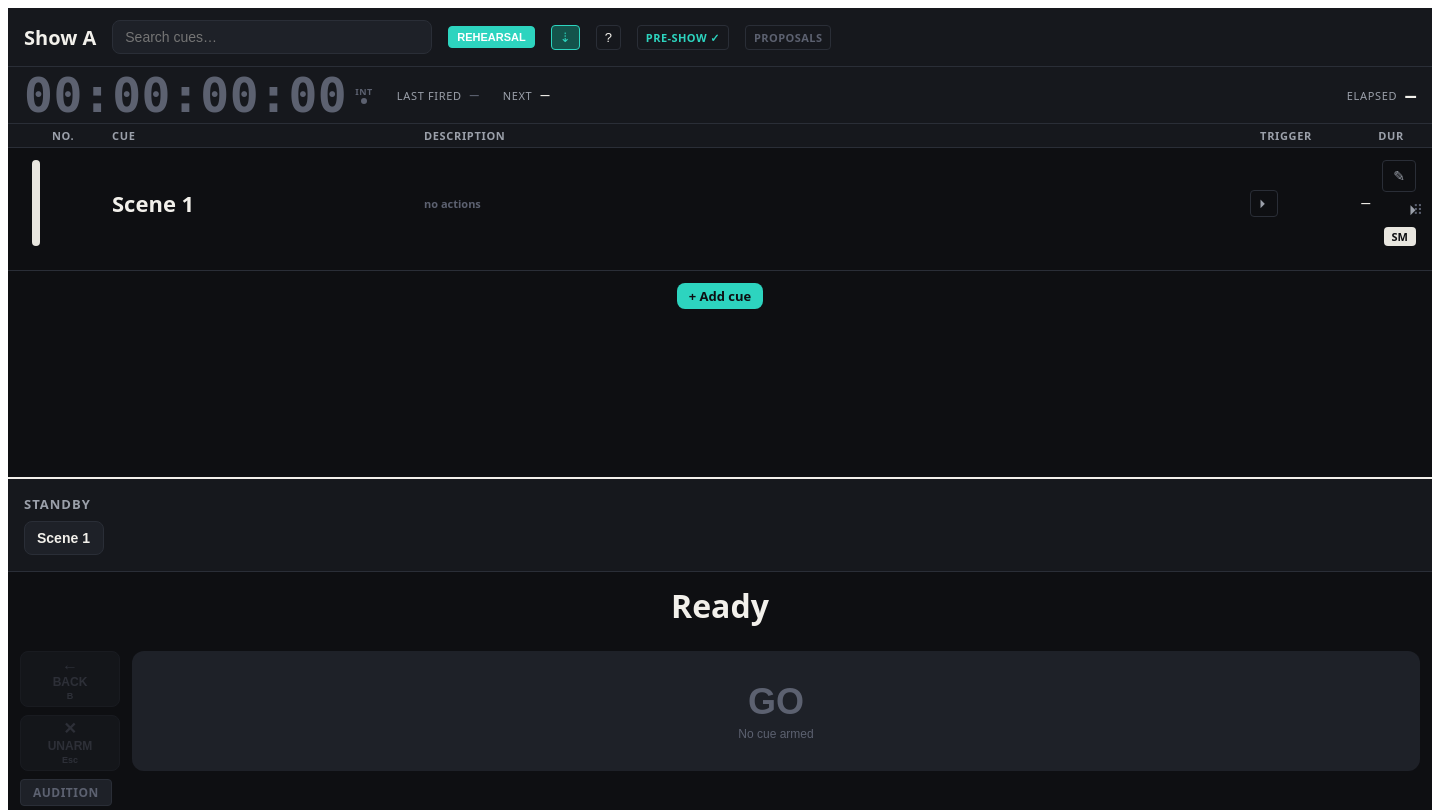
Test: SMMasterView › inline editing shortcuts (N/L/D/O) › Escape closes inline edit without committing
Click the row at point(720, 210), box [8,148,1432,271]
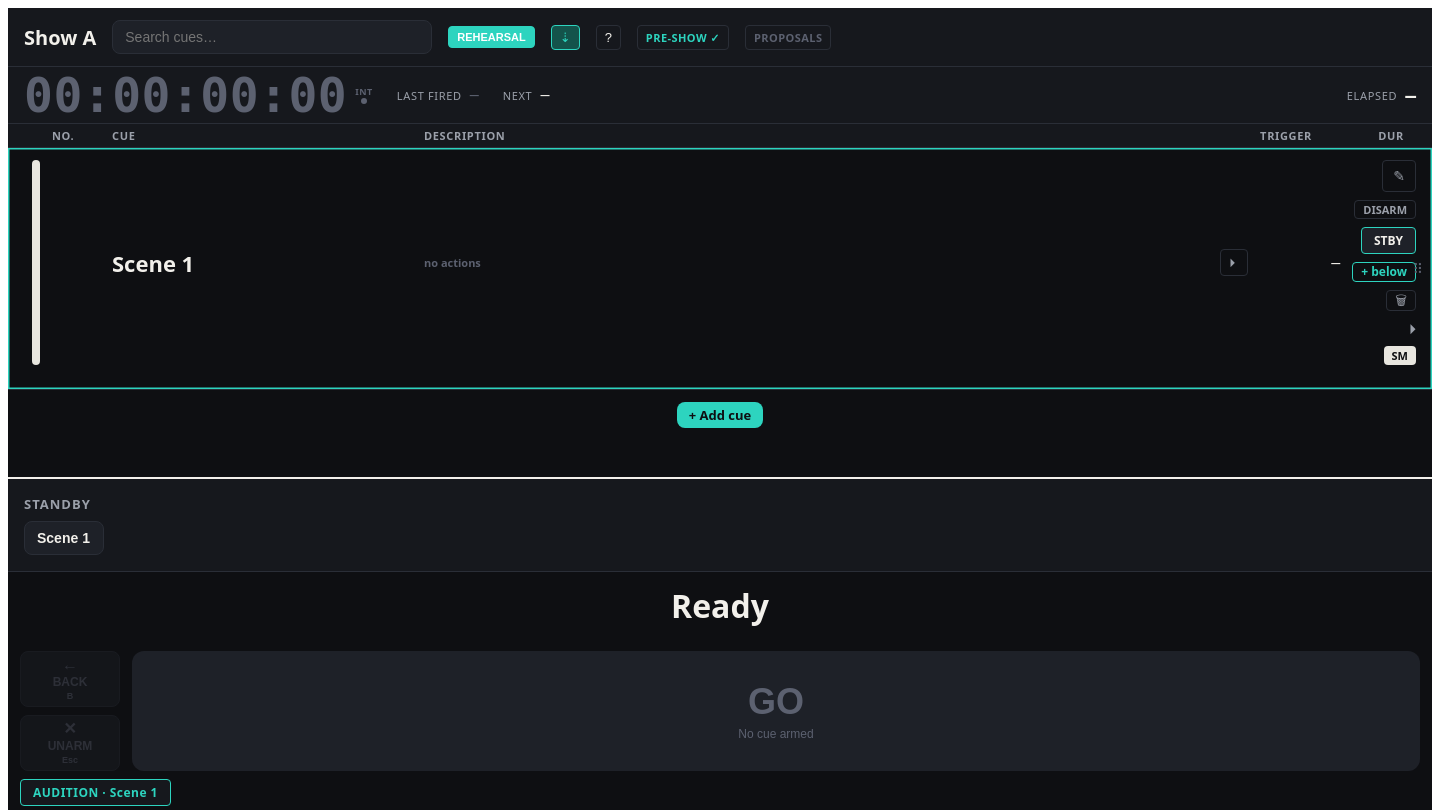
Press KeyN
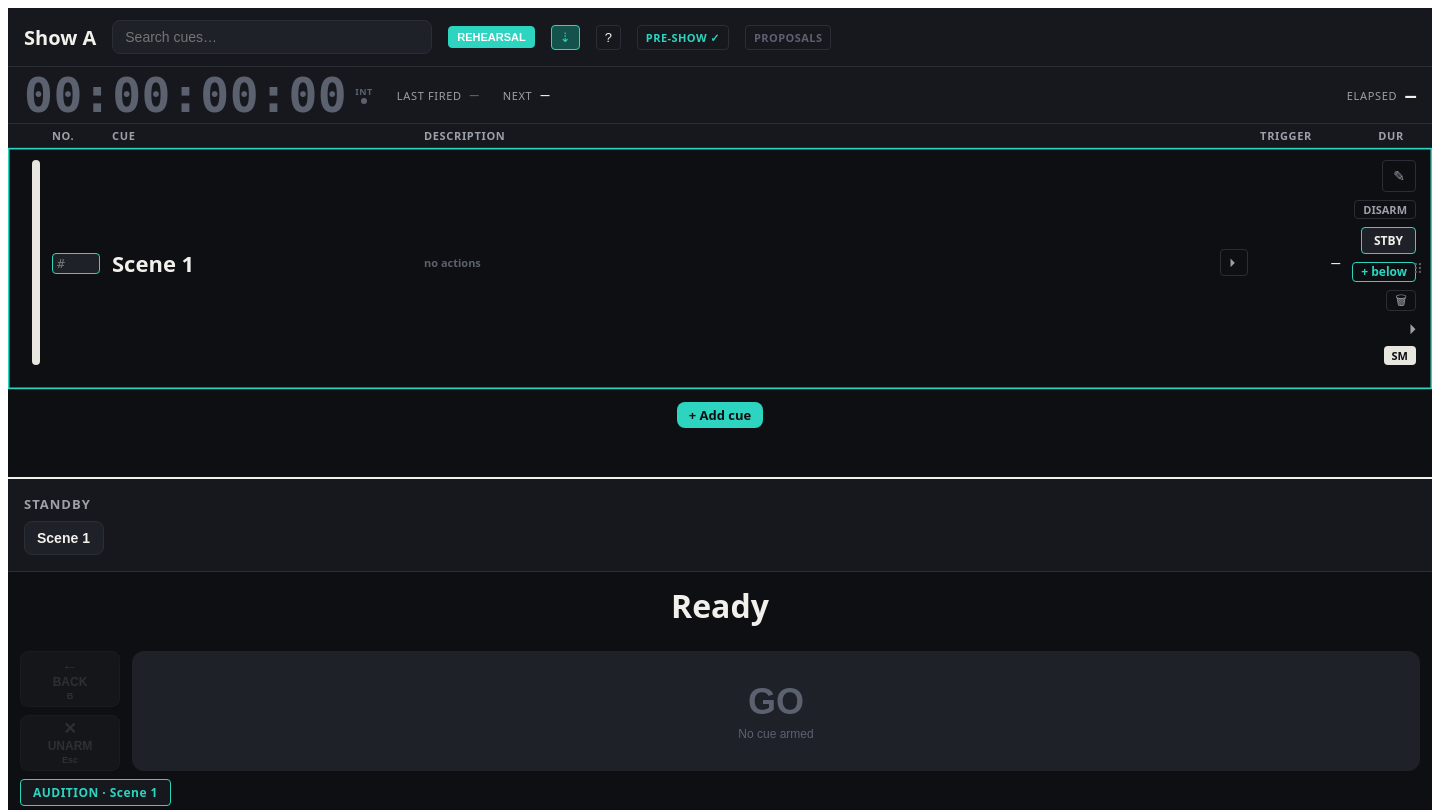
Expected: the field with test id "inline-edit-input" is shown
Press Escape in the field with test id "inline-edit-input", box [52,253,100,274]
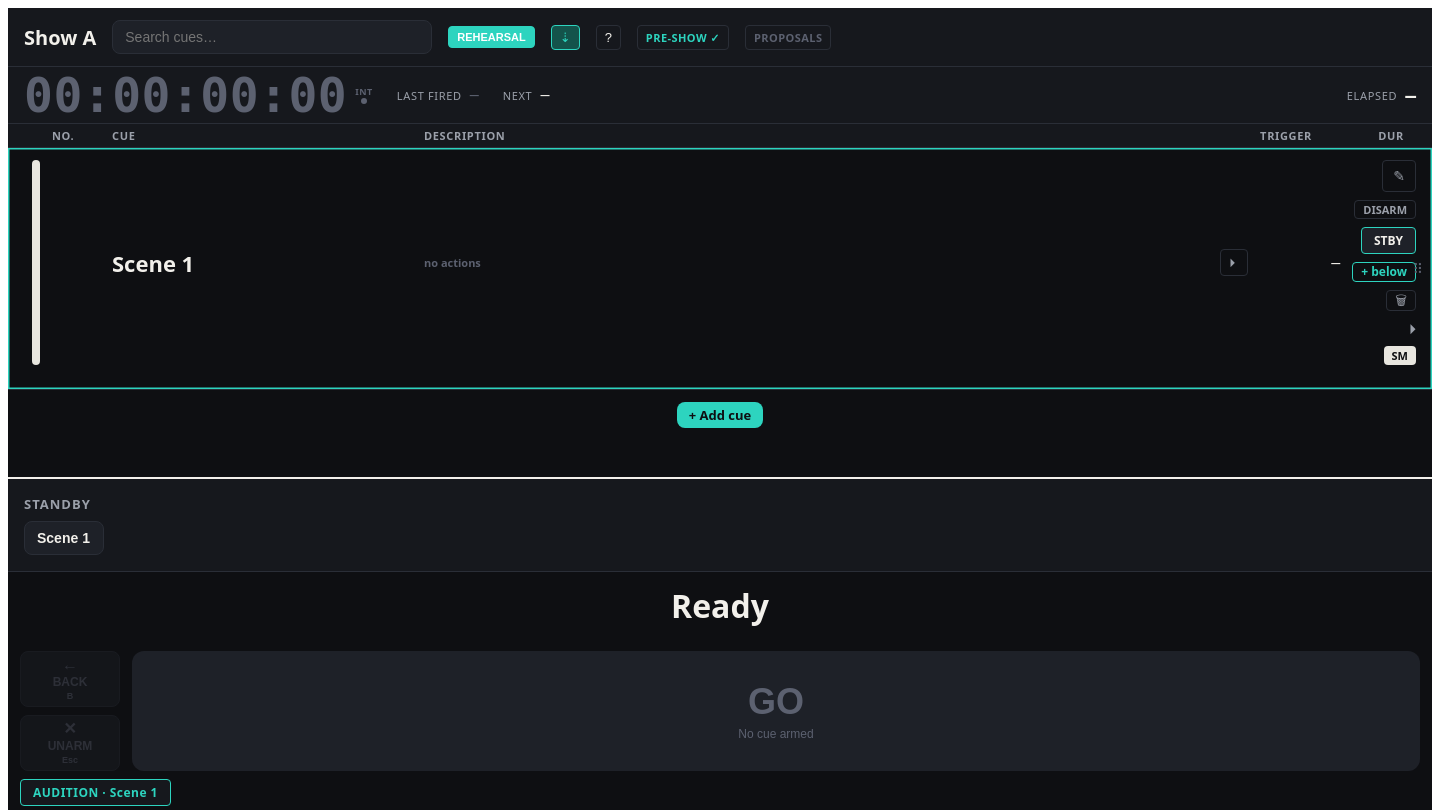
Expected: the field with test id "inline-edit-input" is gone
